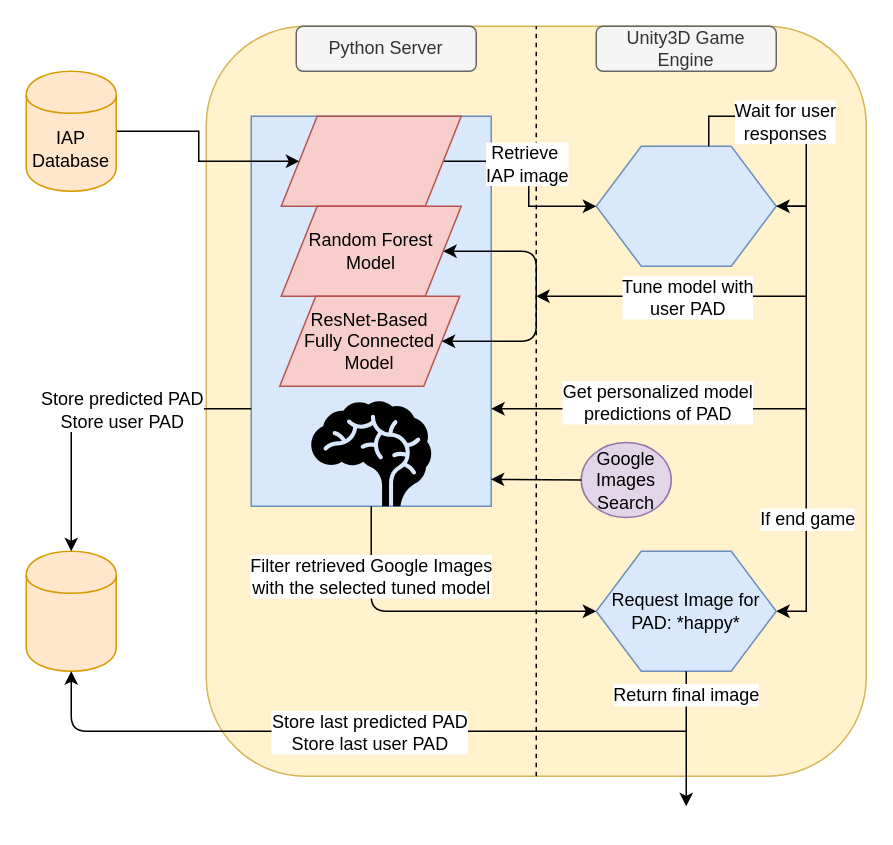
Image size: 893x845. Some labels were removed from this diagram. The shapes that lost their labels are listed below. From the top down, each one's centre as x and y in pixels, then its label:
[370,160]: Rule-based selection
[685,205]: Get User PAD
[70,610]: iSAM Database
